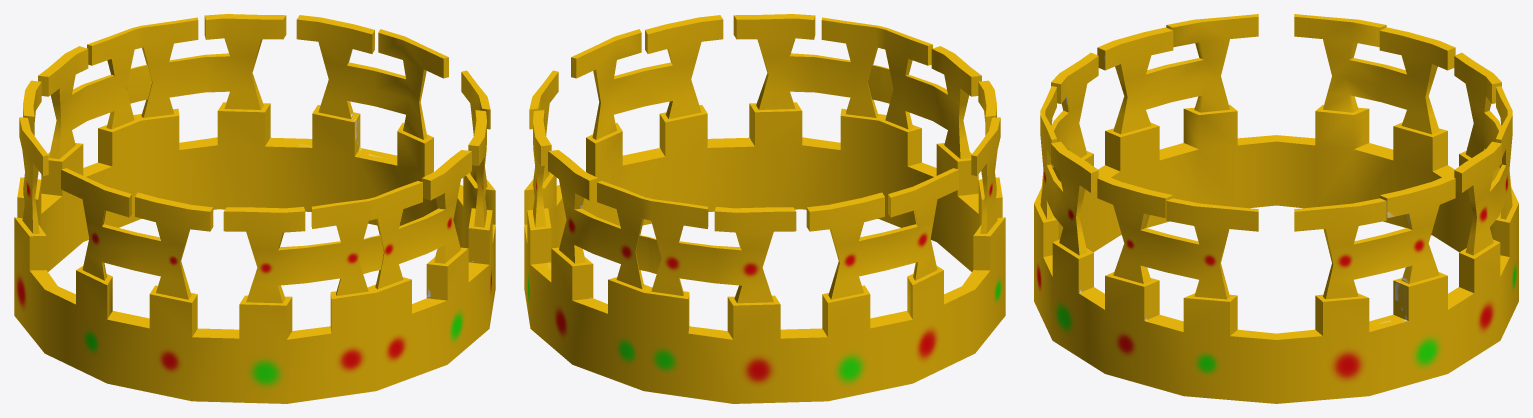
Rendered from Corona.fbx.
The picture shows the model from 3 angles, left to right: view 1: azimuth 30°, elevation 25°; view 2: azimuth 150°, elevation 25°; view 3: azimuth 270°, elevation 25°; orthographic projection.
Parts seen in each view (by area): view 1: Corona; view 2: Corona; view 3: Corona.
Part boxes in pixels (bbox=[...]): Corona: bbox=[14, 14, 495, 403]; Corona: bbox=[524, 14, 1005, 403]; Corona: bbox=[1034, 14, 1518, 403].
Size of the model in its own units: 46.92 by 20.13 by 46.92.
